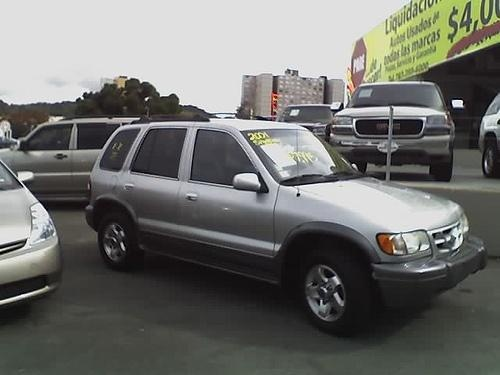car: (86, 120, 490, 337), (327, 82, 465, 185), (1, 117, 150, 203), (1, 151, 61, 310), (279, 104, 337, 139), (479, 89, 500, 180)
